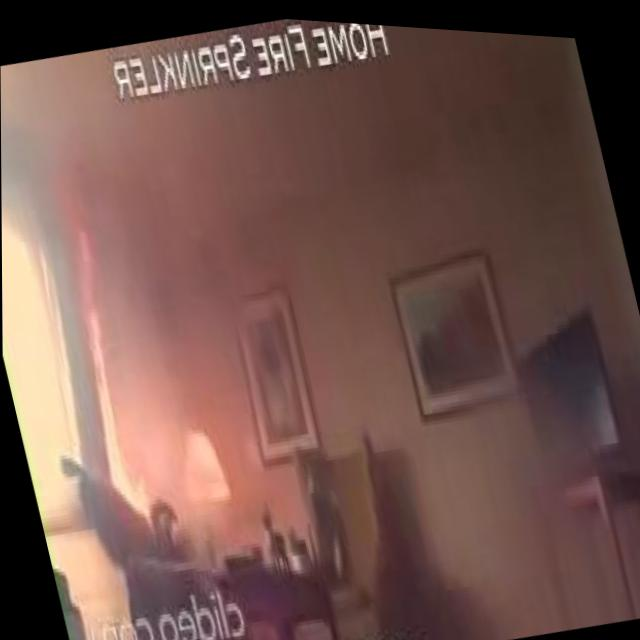fire: (47, 212, 171, 515)
